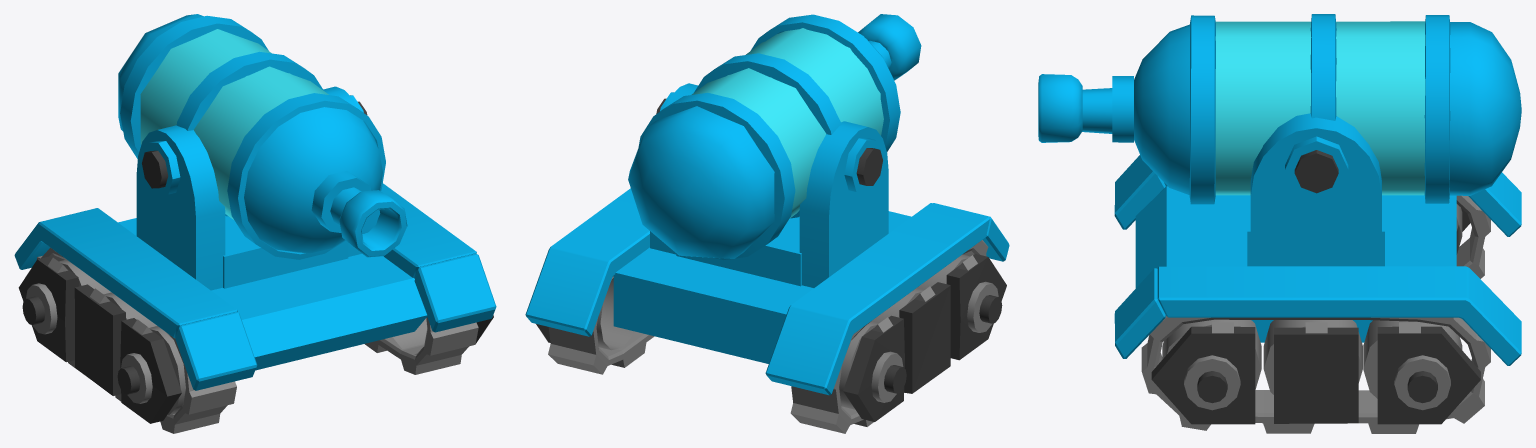
Rendered from paotai.FBX.
3 views of the same model, side by side, from view 1: azimuth 30°, elevation 25°; view 2: azimuth 150°, elevation 25°; view 3: azimuth 270°, elevation 25° (orthographic). The views are drawn at different scales.
Visible parts, largest first — view 1: paotai01, paotai02; view 2: paotai01, paotai02; view 3: paotai01, paotai02.
Part boxes in pixels (<box>): paotai01: <box>14,86,496,433</box>; paotai02: <box>118,14,407,259</box>; paotai01: <box>525,83,1009,433</box>; paotai02: <box>628,14,921,259</box>; paotai01: <box>1114,113,1521,433</box>; paotai02: <box>1038,14,1521,204</box>.
Size of the model in its own units: 233 by 187 by 247.
